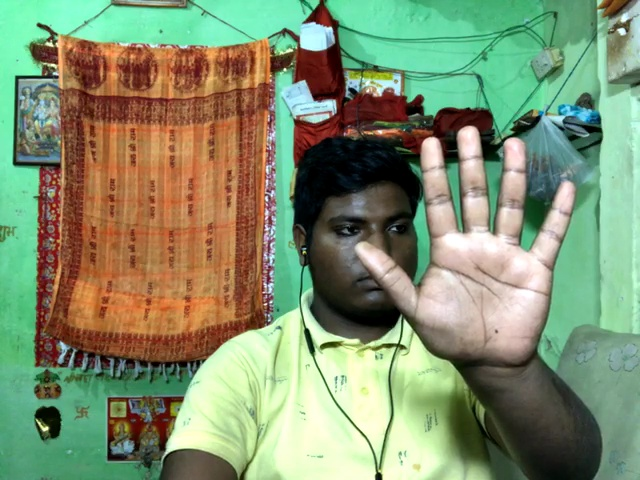Hello: (352, 123, 586, 378)
